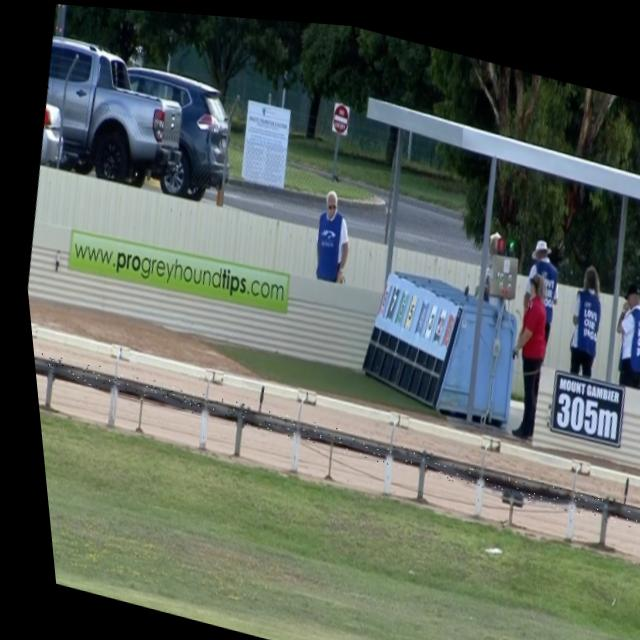rail: (27, 358, 640, 516)
